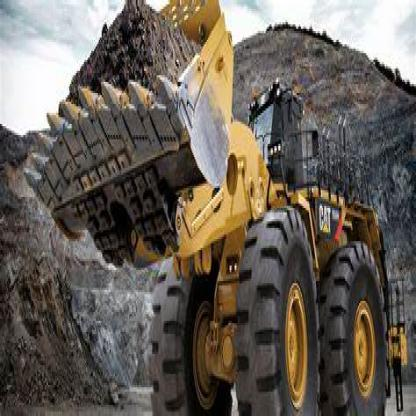bull_dozer/loader/grader: (28, 2, 409, 414)
